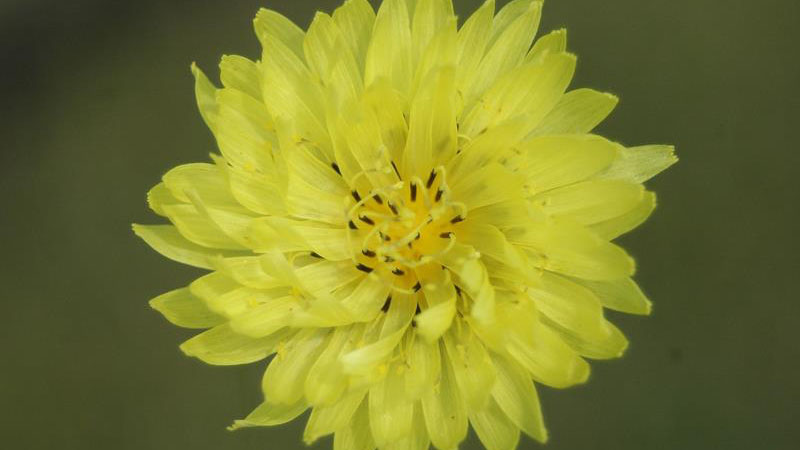dandelion: (169, 53, 618, 429)
